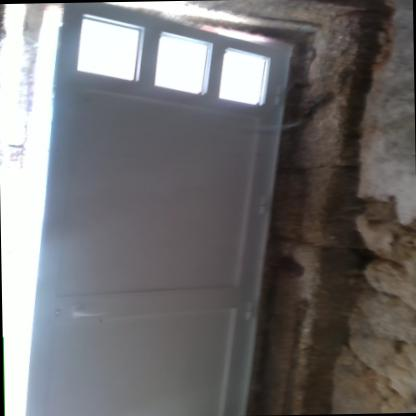semi: (0, 7, 340, 415)
